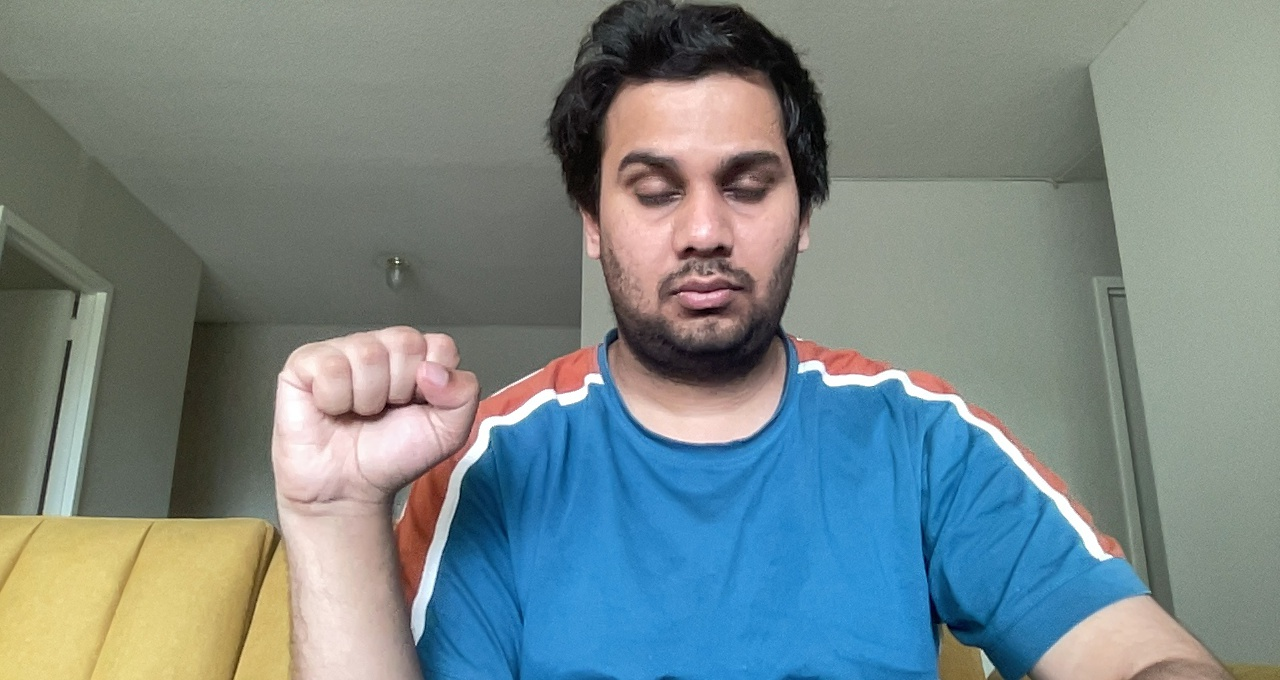closedfist: (266, 319, 489, 524)
